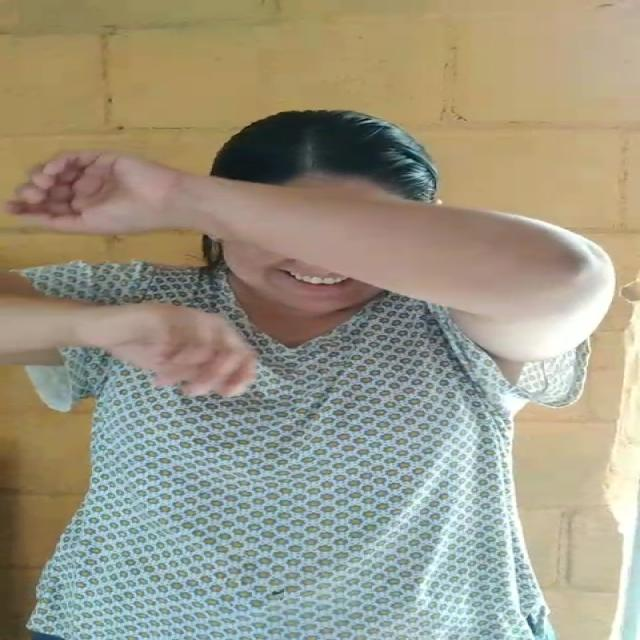7_mano_rostro: (98, 149, 438, 298)
